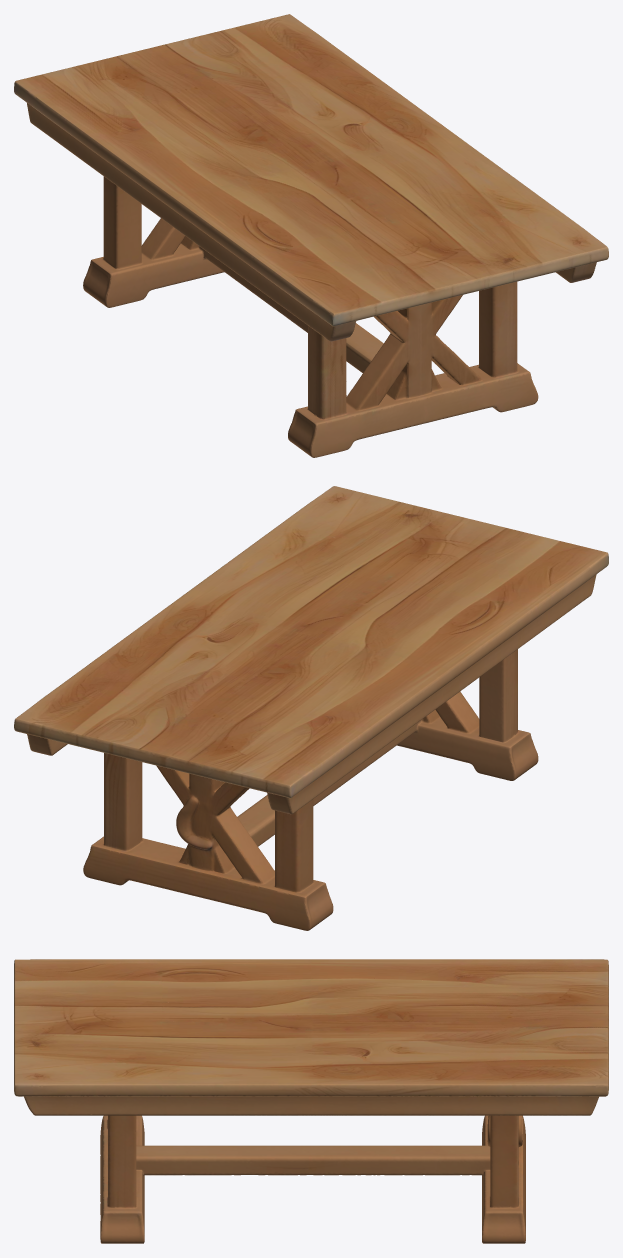
File: detailed_realistic_model_largeoaktable_03.glb
3 views of the same model, one above another, from view 1: azimuth 30°, elevation 25°; view 2: azimuth 150°, elevation 25°; view 3: azimuth 270°, elevation 25° (orthographic). The views are drawn at different scales.
Parts seen in each view (by area): view 1: tripo_node_84206747-d9f7-4139-b355-1626146281d7; view 2: tripo_node_84206747-d9f7-4139-b355-1626146281d7; view 3: tripo_node_84206747-d9f7-4139-b355-1626146281d7.
Part boxes in pixels (x1,y1,x2,y2): tripo_node_84206747-d9f7-4139-b355-1626146281d7: (14,14,608,457); tripo_node_84206747-d9f7-4139-b355-1626146281d7: (14,486,608,930); tripo_node_84206747-d9f7-4139-b355-1626146281d7: (14,959,608,1243).
Bounding box in the file's own units: 0.5032 × 0.3199 × 1.
Materials: 1 (1 with a texture image).
